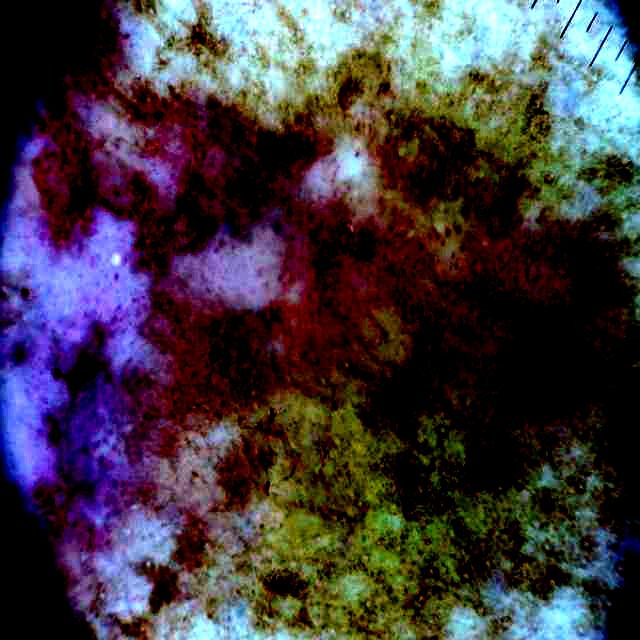BCC: (96, 95, 598, 446)
